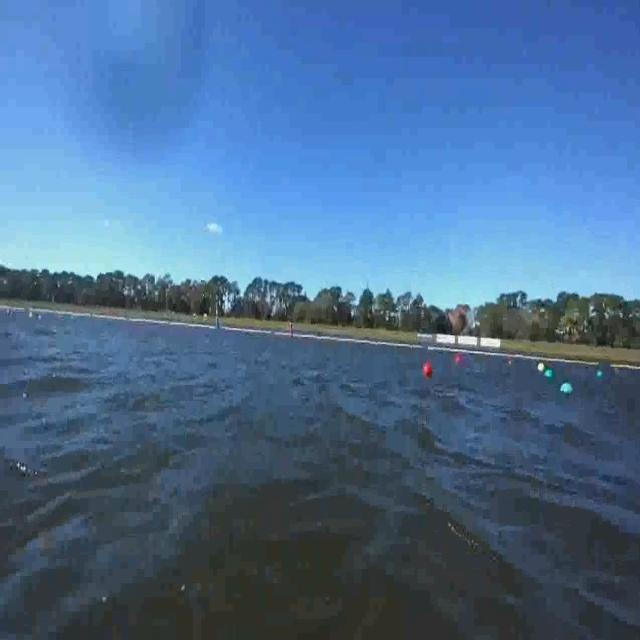green-buoy: (560, 380, 574, 394), (544, 368, 553, 378), (547, 368, 555, 379), (594, 370, 602, 378)
red-buoy: (454, 349, 465, 370), (423, 360, 433, 378)
